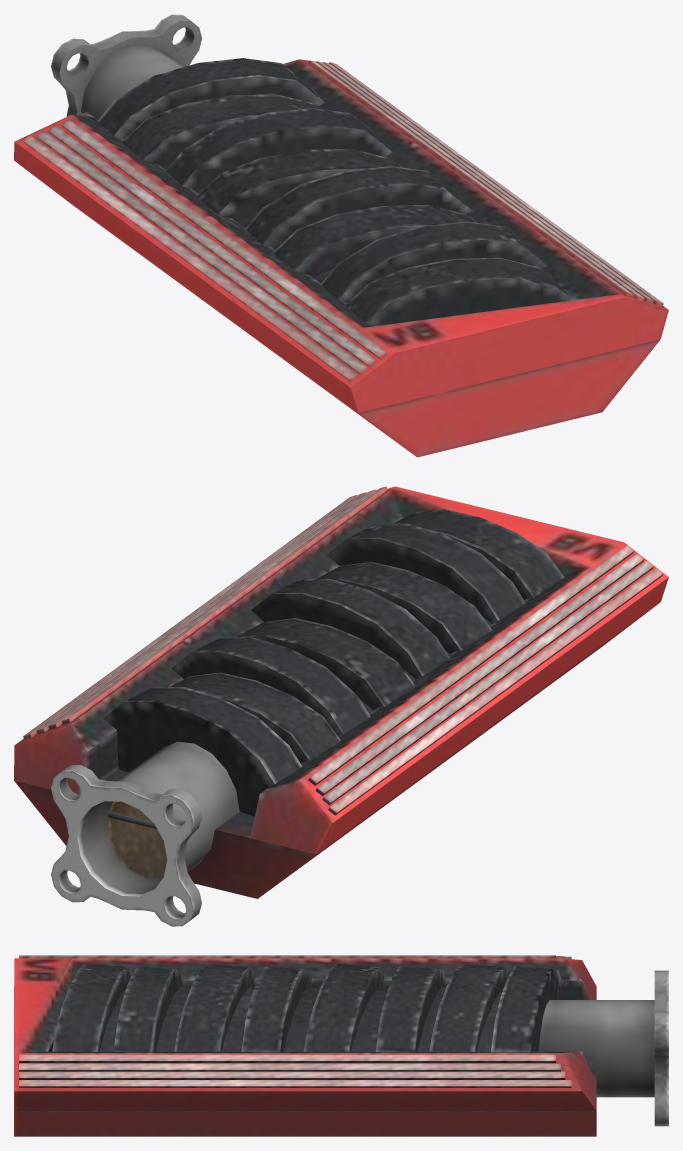
Rendered from throttleBody.glb.
The picture shows the model from 3 angles, top to bottom: view 1: azimuth 30°, elevation 25°; view 2: azimuth 150°, elevation 25°; view 3: azimuth 270°, elevation 25°; orthographic projection. The views are drawn at different scales.
Parts seen in each view (by area): view 1: throttleBody_lambert2_0.001; view 2: throttleBody_lambert2_0.001; view 3: throttleBody_lambert2_0.001.
Part boxes in pixels (x1,y1,x2,y2): throttleBody_lambert2_0.001: [14, 14, 668, 457]; throttleBody_lambert2_0.001: [14, 486, 668, 926]; throttleBody_lambert2_0.001: [14, 955, 668, 1136].
Bounding box in the file's own units: 68.37 × 30.27 × 144.
1 material, 1 textured.
